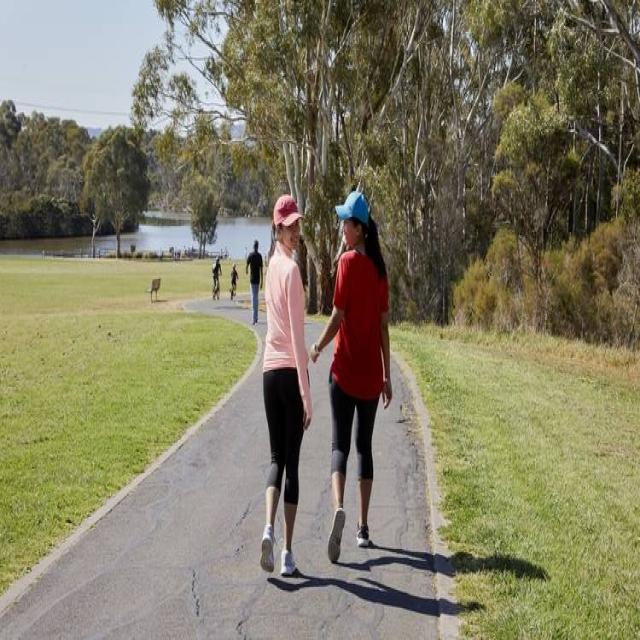Person: (311, 192, 392, 561), (262, 196, 312, 577), (245, 240, 263, 326), (211, 257, 222, 282), (230, 265, 238, 290)
